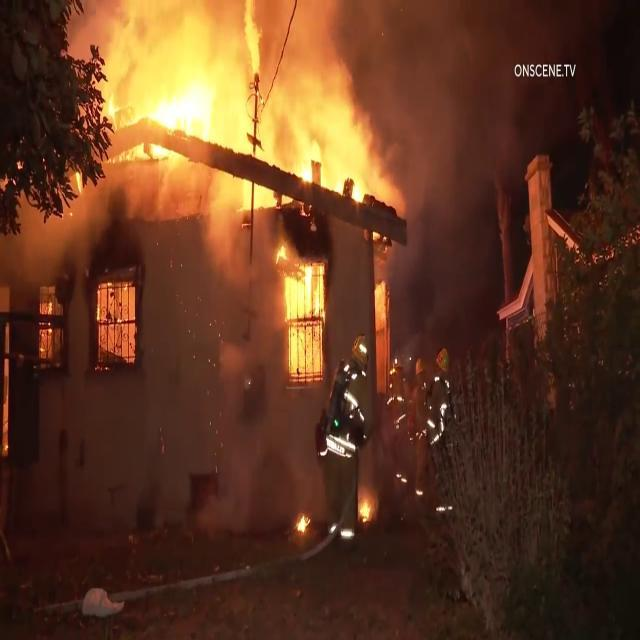Fire: (232, 96, 392, 216), (128, 71, 216, 179), (276, 249, 326, 391), (356, 484, 377, 532), (294, 506, 318, 542)
Smoke: (384, 3, 546, 74)
